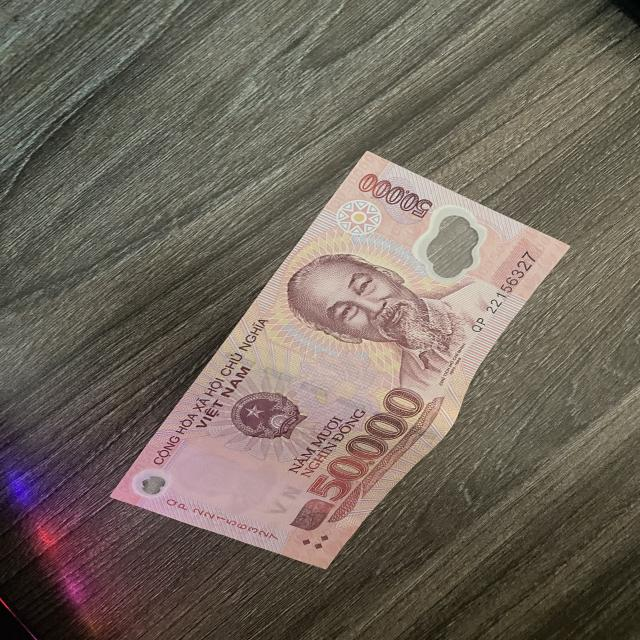50 000 VND: (107, 150, 572, 571)
